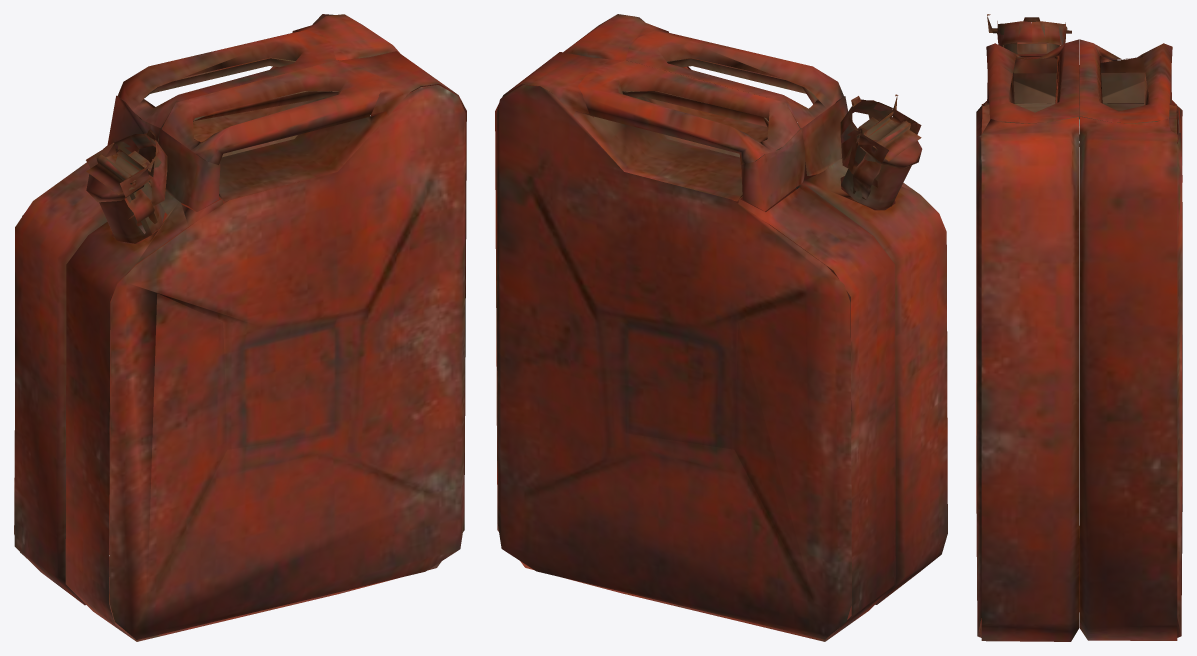
Rendered from jerrycan.glb.
3 views of the same model, side by side, from view 1: azimuth 30°, elevation 25°; view 2: azimuth 150°, elevation 25°; view 3: azimuth 270°, elevation 25° (orthographic). The views are drawn at different scales.
Visible parts, largest first — view 1: jerrycan; view 2: jerrycan; view 3: jerrycan.
Part boxes in pixels (box(x1,y1,x2,y2)): jerrycan: box(14, 14, 466, 641); jerrycan: box(495, 14, 947, 641); jerrycan: box(976, 14, 1182, 641).
Bounding box in the file's own units: 0.345 × 0.45 × 0.1678.
Materials: 1 (1 with a texture image).
